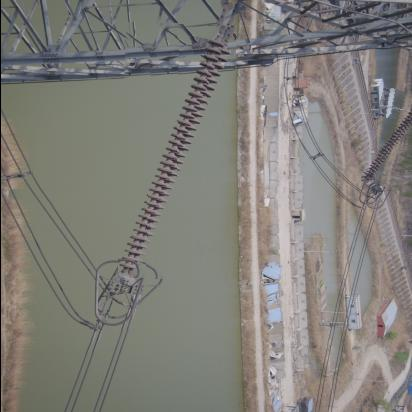insulator: (120, 25, 235, 282), (367, 89, 412, 190)
